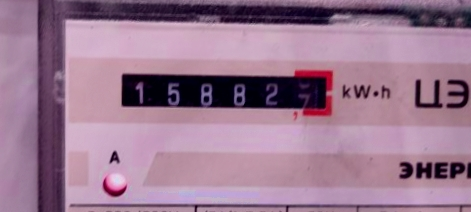1: (130, 77, 145, 105)
2: (261, 79, 277, 108)
5: (162, 79, 180, 106)
7: (293, 90, 309, 108)
8: (195, 80, 211, 108), (229, 80, 244, 108)
screen: (104, 56, 341, 124)
